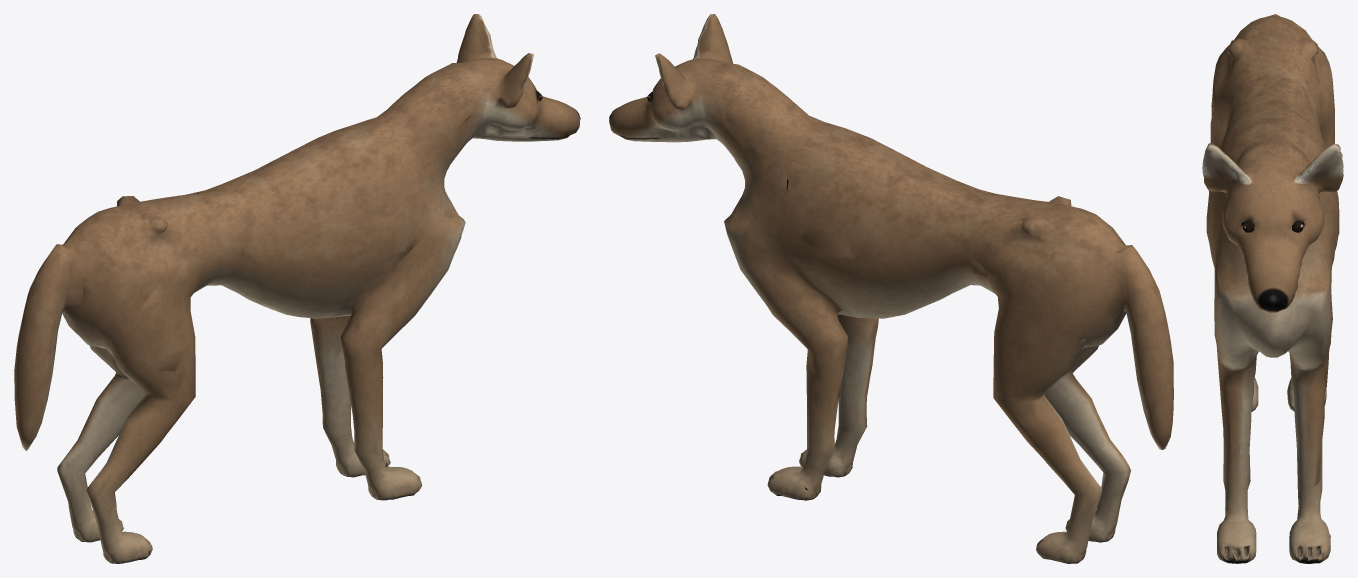
Rendered from stray_alert.glb.
The picture shows the model from 3 angles, left to right: view 1: azimuth 30°, elevation 25°; view 2: azimuth 150°, elevation 25°; view 3: azimuth 270°, elevation 25°; orthographic projection. The views are drawn at different scales.
Visible parts, largest first — view 1: stray_alert_mesh; view 2: stray_alert_mesh; view 3: stray_alert_mesh.
Boxes of the visible parts, x1,y1,x2,y2 form: stray_alert_mesh: (14, 14, 580, 563); stray_alert_mesh: (609, 14, 1173, 563); stray_alert_mesh: (1202, 14, 1343, 563).
Size of the model in its own units: 0.9165 by 0.6516 by 0.1734.
1 material, 1 textured.
